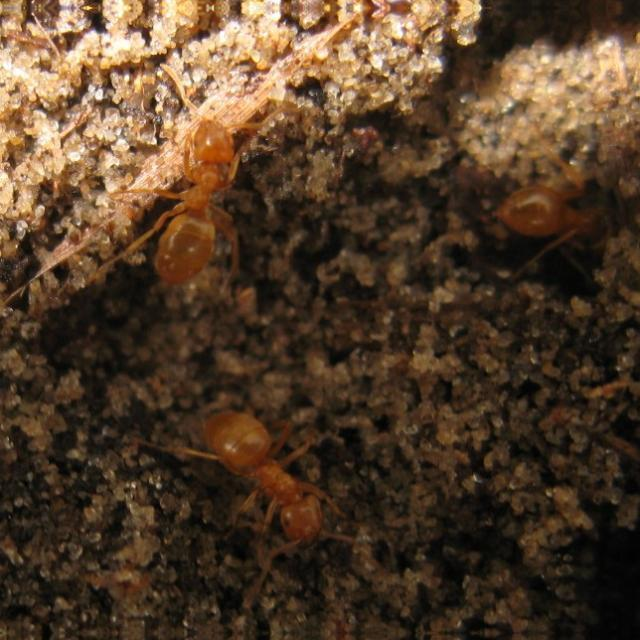Lasius: (133, 91, 297, 296), (214, 395, 364, 563), (495, 136, 635, 286)
